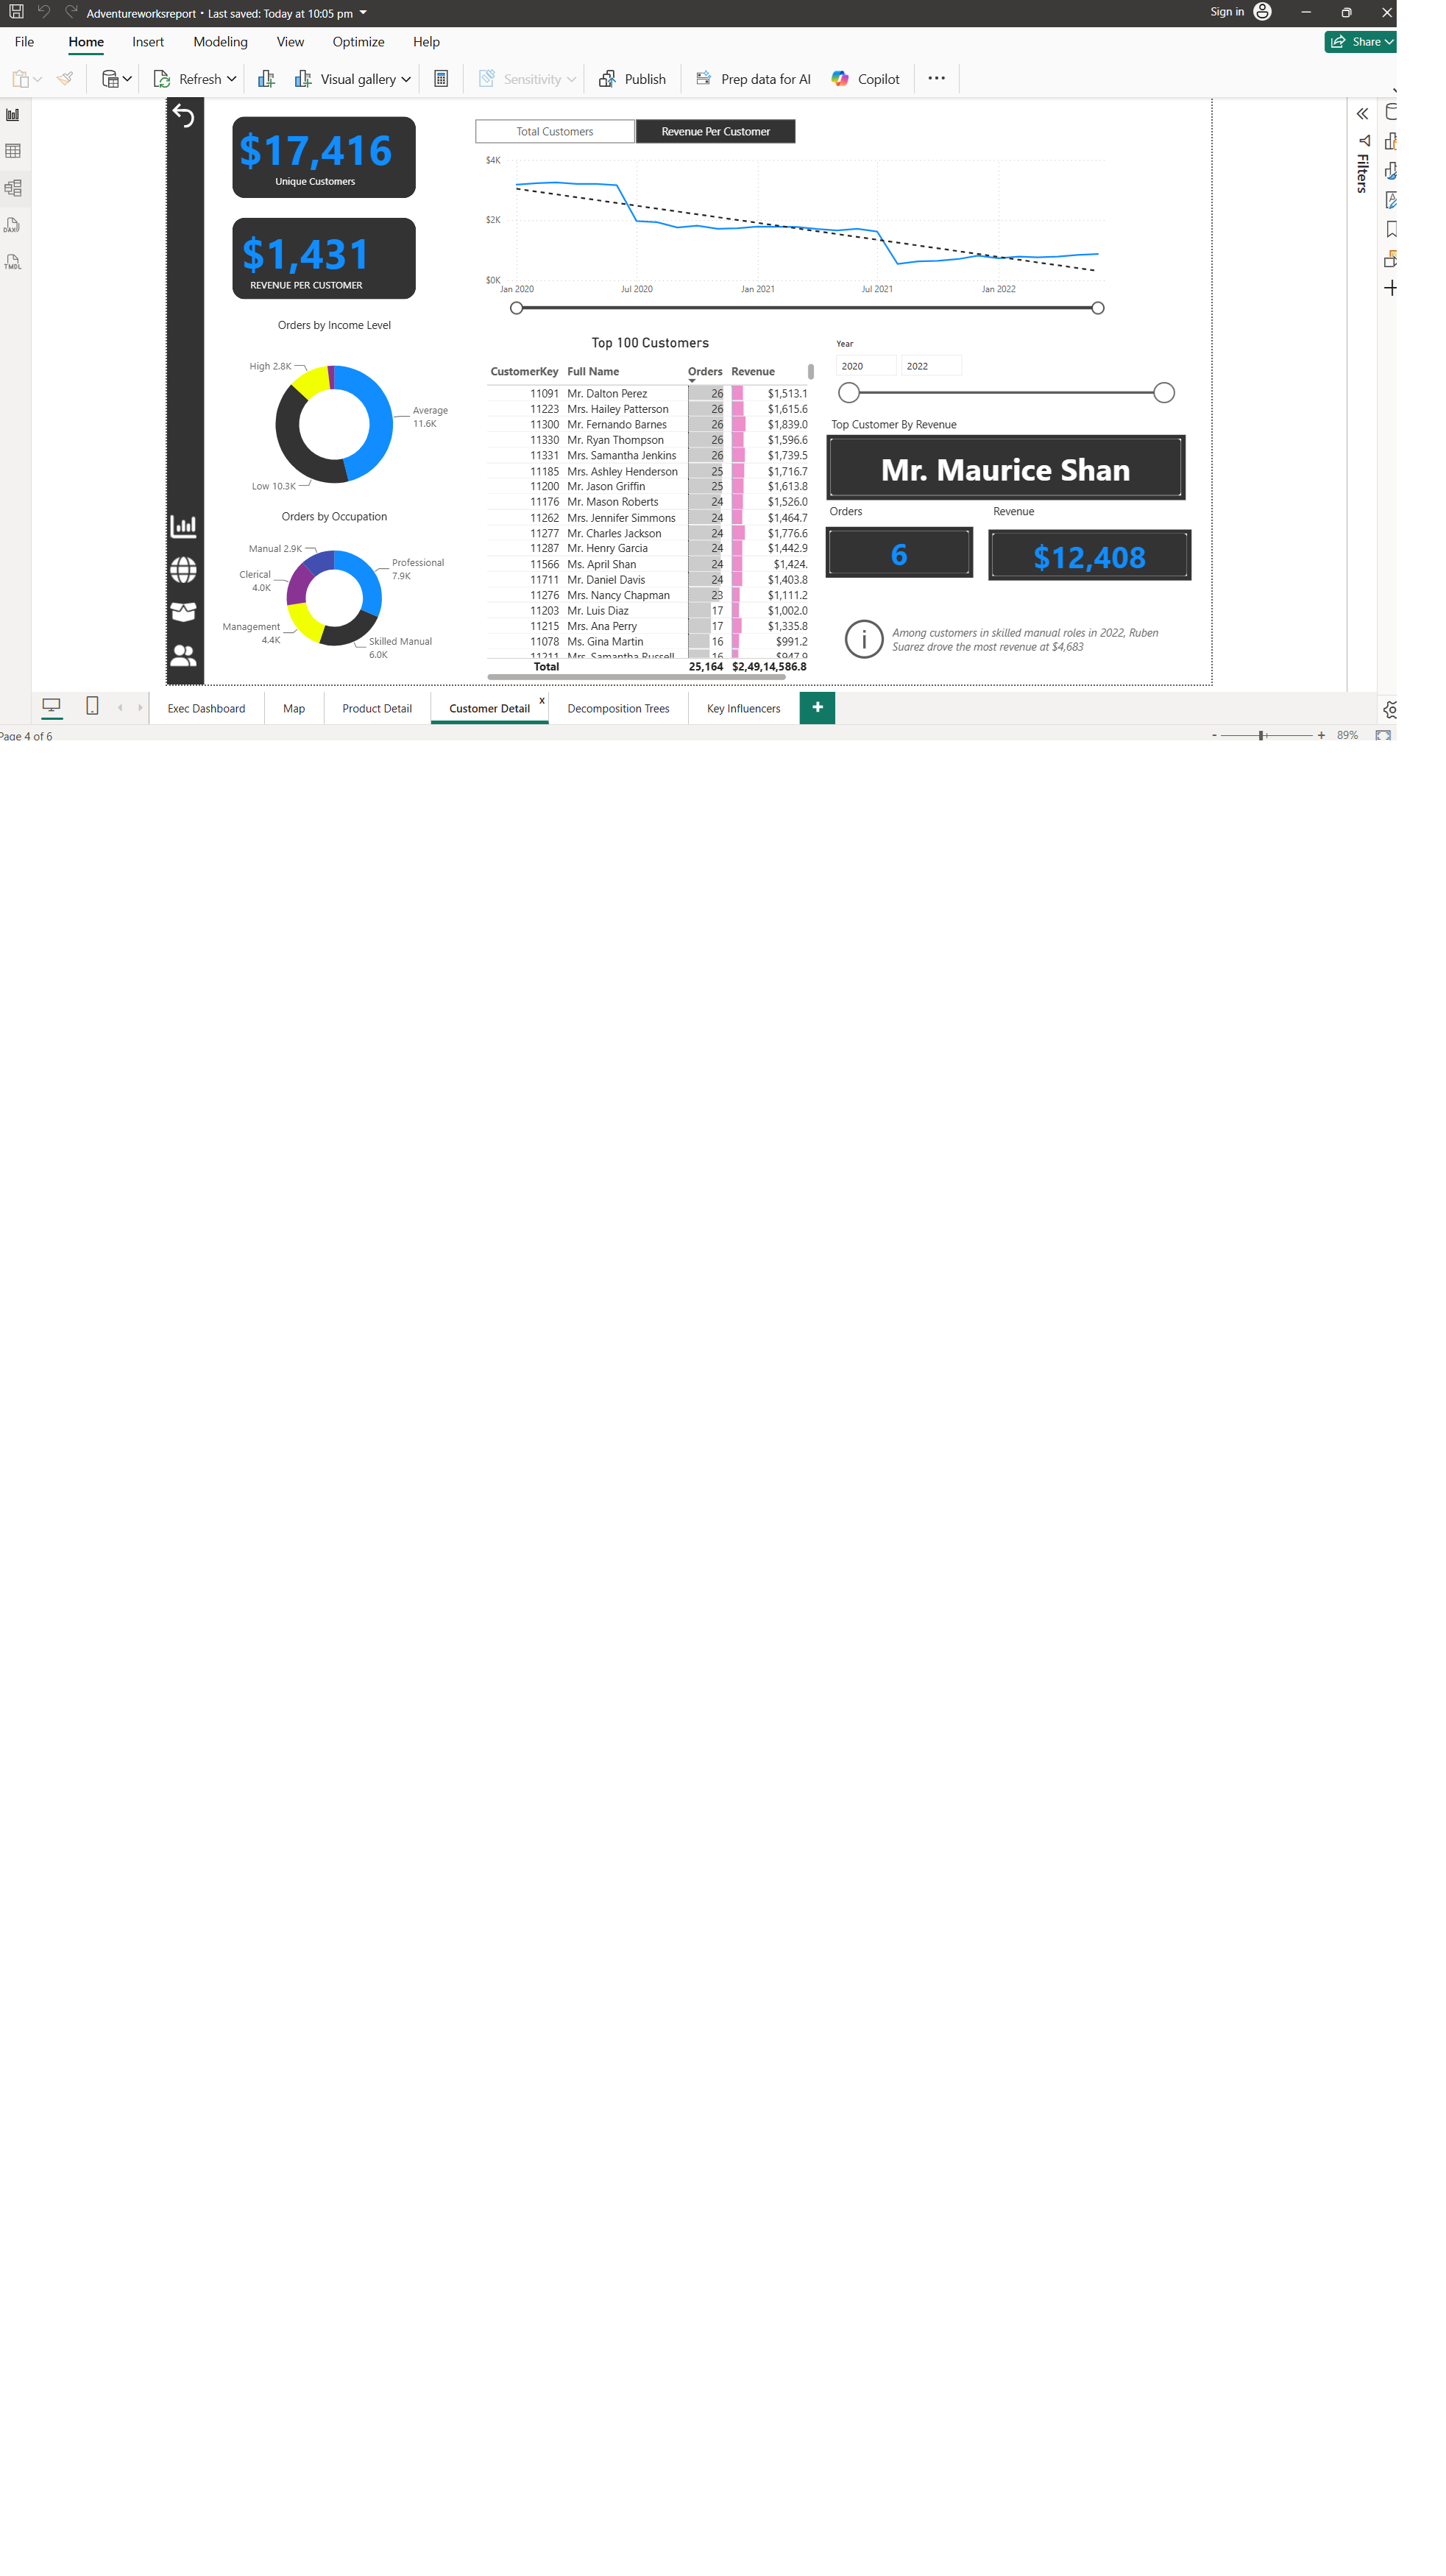

The page's visual inventory and layout, read from the dashboard file:
{"tool":"powerbi","page":{"name":"Customer Detail","canvas":[1280,720],"ordinal":3},"visuals":[{"type":"shape","title":"Left Nav Background","box":[0,0,45.5,719.6],"z":0},{"type":"actionButton","box":[0,506.4,42.8,40.4],"z":0,"group":"g1"},{"type":"shape","box":[79.6,23.7,225,100],"z":1000},{"type":"actionButton","box":[0,559,42.8,40.4],"z":1000,"group":"g1"},{"type":"shape","box":[79.6,148,225,100],"z":2000},{"type":"actionButton","box":[0,611.6,42.8,40.4],"z":2000,"group":"g1"},{"type":"card","fields":{"Values":["Measure Table.Average Revenue Per Customer"]},"box":[58.6,148,224.7,99.1],"z":3000},{"type":"actionButton","box":[0,664.1,42.8,40.4],"z":3000,"group":"g1"},{"type":"card","fields":{"Values":["Measure Table.Total Customers"]},"box":[79.6,23.7,203.8,92.1],"z":4000},{"type":"lineChart","fields":{"Category":["Calendar Lookup.Date Hierarchy.Start of Year","Calendar Lookup.Date Hierarchy.Start of Month","Calendar Lookup.Date Hierarchy.Start of Week","Calendar Lookup.Date Hierarchy.Date"],"Y":["Measure Table.Average Revenue Per Customer"]},"box":[385.2,63.6,781.4,205.4],"z":5000},{"type":"donutChart","title":" Orders by Income Level","fields":{"Category":["Customer Lookup.Income Level"],"Y":["Measure Table.Total Orders"]},"box":[58.6,269.4,293.1,234.5],"z":6000},{"type":"donutChart","title":" Orders by Occupation","fields":{"Category":["Customer Lookup.Occupation"],"Y":["Measure Table.Total Orders"]},"box":[58.6,503.9,293.1,191.2],"z":7000},{"type":"tableEx","title":"Top 100 Customers","fields":{"Values":["Customer Lookup.CustomerKey","Customer Lookup.Full Name","Measure Table.Total Orders","Measure Table.Total Revenue"]},"box":[385.1,290.6,413.3,429.2],"z":8000},{"type":"cardVisual","fields":{"Data":["Measure Table.Total Orders (customer detail)"]},"box":[807.4,525.9,180.8,62.6],"z":9000},{"type":"cardVisual","fields":{"Data":["Measure Table.Total Revenue (customer detail)"]},"box":[1007,529.5,248.6,62.6],"z":10000},{"type":"cardVisual","fields":{"Data":["Customer Lookup.Full Name (customer detail)"]},"box":[807.9,414.1,439.9,80],"z":11000},{"type":"textbox","box":[809.4,386.7,180.8,41.7],"z":12000},{"type":"textbox","box":[807.4,492.8,180.8,33],"z":13000},{"type":"textbox","box":[1007.4,492.8,180.8,36.5],"z":14000},{"type":"slicer","fields":{"Values":["Calendar Lookup.Date.Variation.Date Hierarchy.Year"]},"box":[807.1,291,435.7,89.5],"z":15000},{"type":"actionButton","box":[824.2,633.4,423.1,61.1],"z":16000},{"type":"actionButton","box":[0,1.7,45.1,39.9],"z":17000},{"type":"group","id":"g1","title":"Navigation Buttons","box":[0,506.4,43.3,197.7],"z":18000},{"type":"slicer","fields":{"Values":["Customer Metric Selection.Customer Metric Selection"]},"box":[352.2,20.8,442.7,42.8],"z":18501}]}

Visuals, with their boxes on the page's 1280x720 design canvas (x1, y1, x2, y2). These are canvas units, not pixel positions in the 1446x2576 screenshot, which may show the page scaled, cropped or inside an application window:
"Left Nav Background" shape: l=0, t=0, r=46, b=720
actionButton: l=0, t=506, r=43, b=547
shape: l=80, t=24, r=305, b=124
actionButton: l=0, t=559, r=43, b=599
shape: l=80, t=148, r=305, b=248
actionButton: l=0, t=612, r=43, b=652
card - Measure Table.Average Revenue Per Customer: l=59, t=148, r=283, b=247
actionButton: l=0, t=664, r=43, b=704
card - Measure Table.Total Customers: l=80, t=24, r=283, b=116
lineChart - Calendar Lookup.Date Hierarchy.Start of Year x Calendar Lookup.Date Hierarchy.Start of Month: l=385, t=64, r=1167, b=269
" Orders by Income Level" donutChart: l=59, t=269, r=352, b=504
" Orders by Occupation" donutChart: l=59, t=504, r=352, b=695
"Top 100 Customers" tableEx: l=385, t=291, r=798, b=720
cardVisual - Measure Table.Total Orders (customer detail): l=807, t=526, r=988, b=588
cardVisual - Measure Table.Total Revenue (customer detail): l=1007, t=530, r=1256, b=592
cardVisual - Customer Lookup.Full Name (customer detail): l=808, t=414, r=1248, b=494
textbox: l=809, t=387, r=990, b=428
textbox: l=807, t=493, r=988, b=526
textbox: l=1007, t=493, r=1188, b=529
slicer - Calendar Lookup.Date.Variation.Date Hierarchy.Year: l=807, t=291, r=1243, b=380
actionButton: l=824, t=633, r=1247, b=694
actionButton: l=0, t=2, r=45, b=42
"Navigation Buttons" group: l=0, t=506, r=43, b=704
slicer - Customer Metric Selection.Customer Metric Selection: l=352, t=21, r=795, b=64
